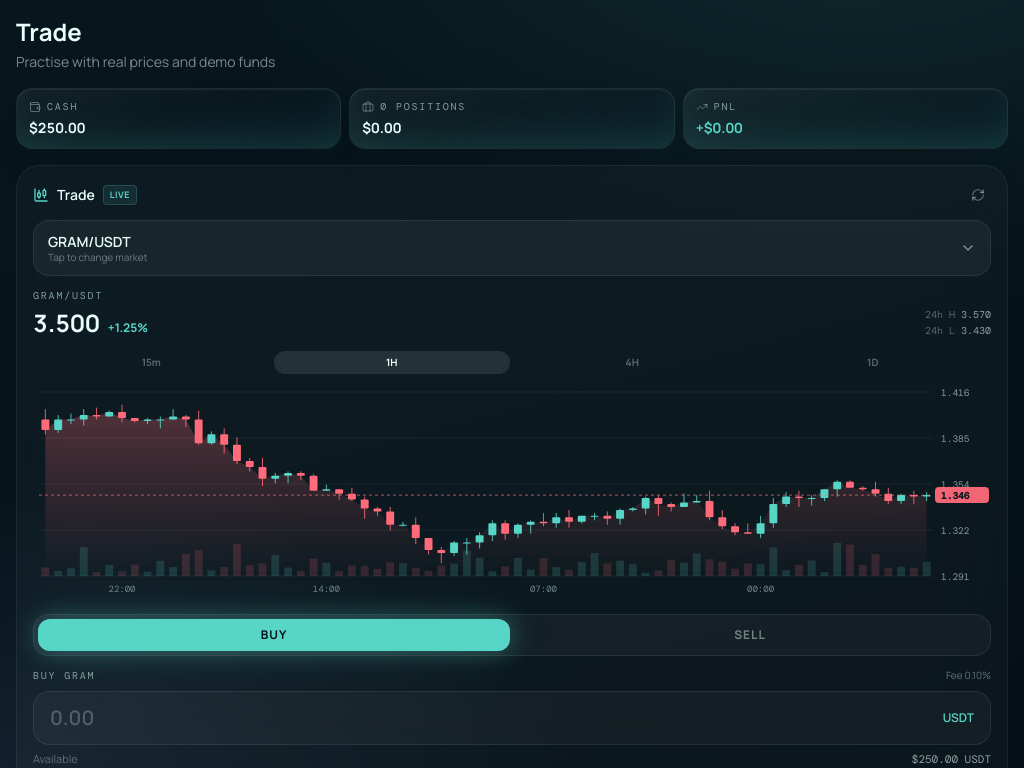
Scenario: Trade page › blocks orders outside the allowed size
Expected: the element with test id "trade-available-balance" shows "$250.00", [912,752,958,766]
In the number field with test id "trade-amount-input": x=492, y=718 [50,704,935,732], type "500"
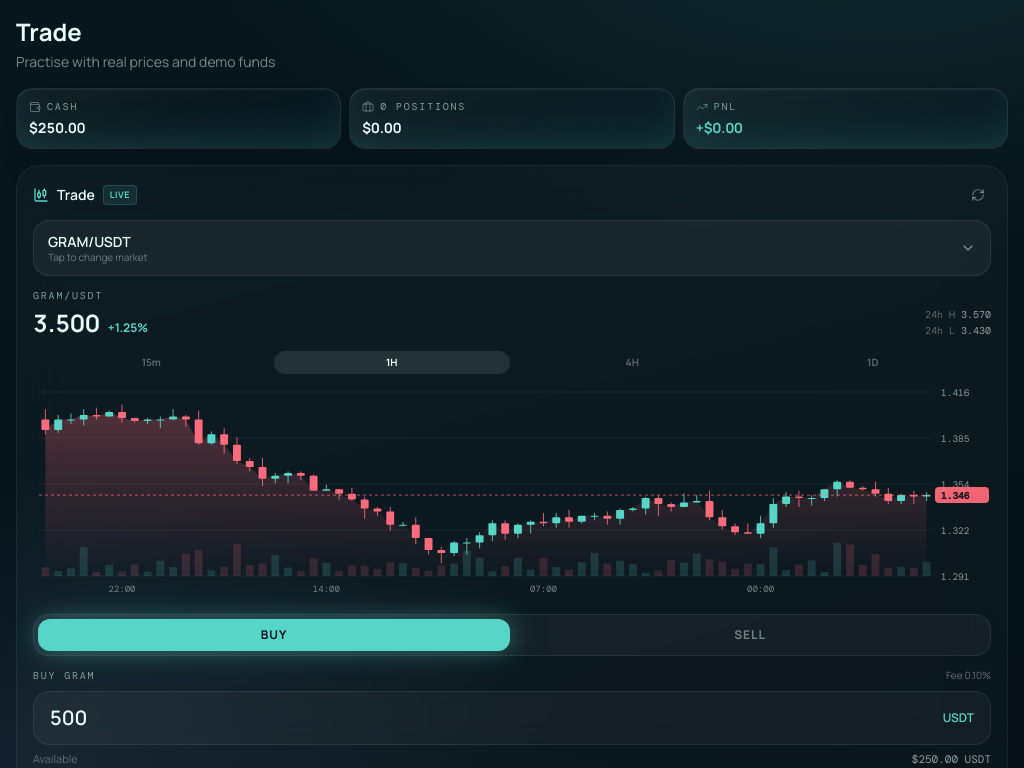
Replace the text in the number field with test id "trade-amount-input" with "200000": x=492, y=718 [50,704,935,732]
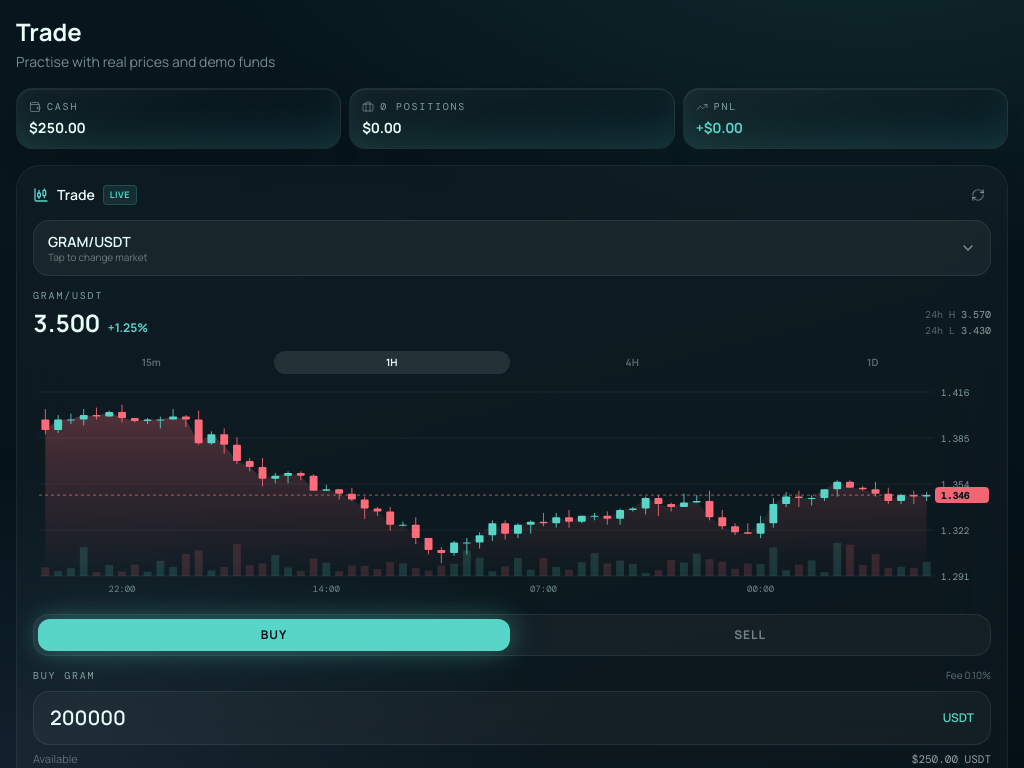
Replace the text in the number field with test id "trade-amount-input" with "0.10": x=492, y=718 [50,704,935,732]
(page scrolled)
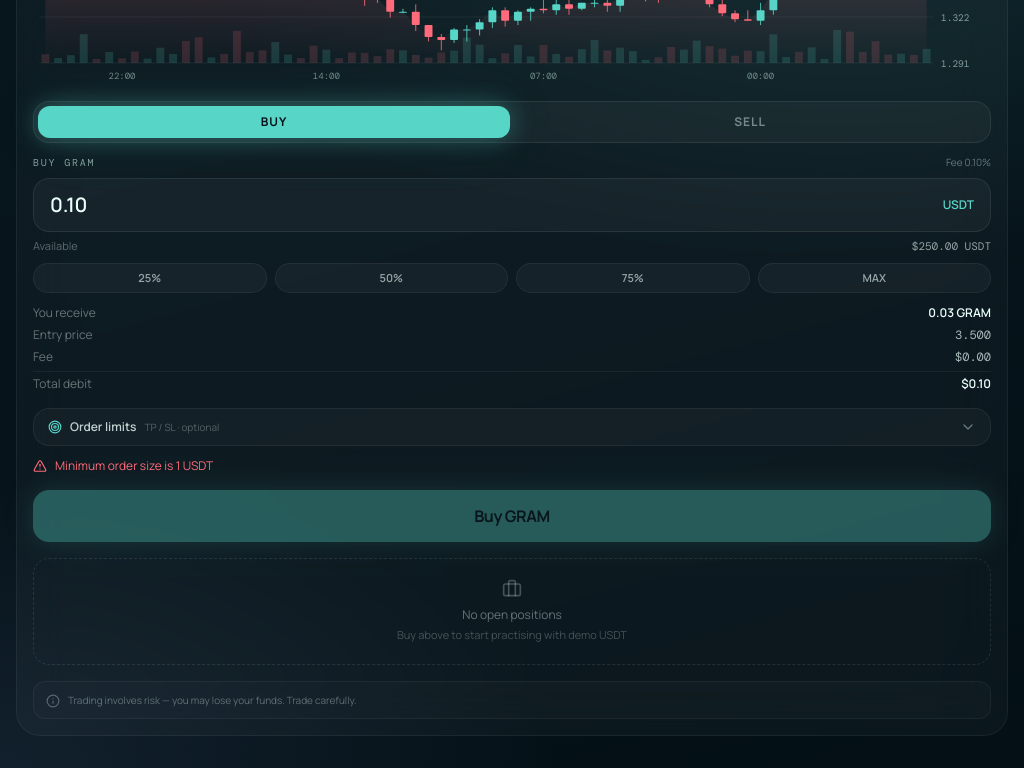
Result: the text "Minimum order size is 1 USDT" is shown at [55,458,213,474]
